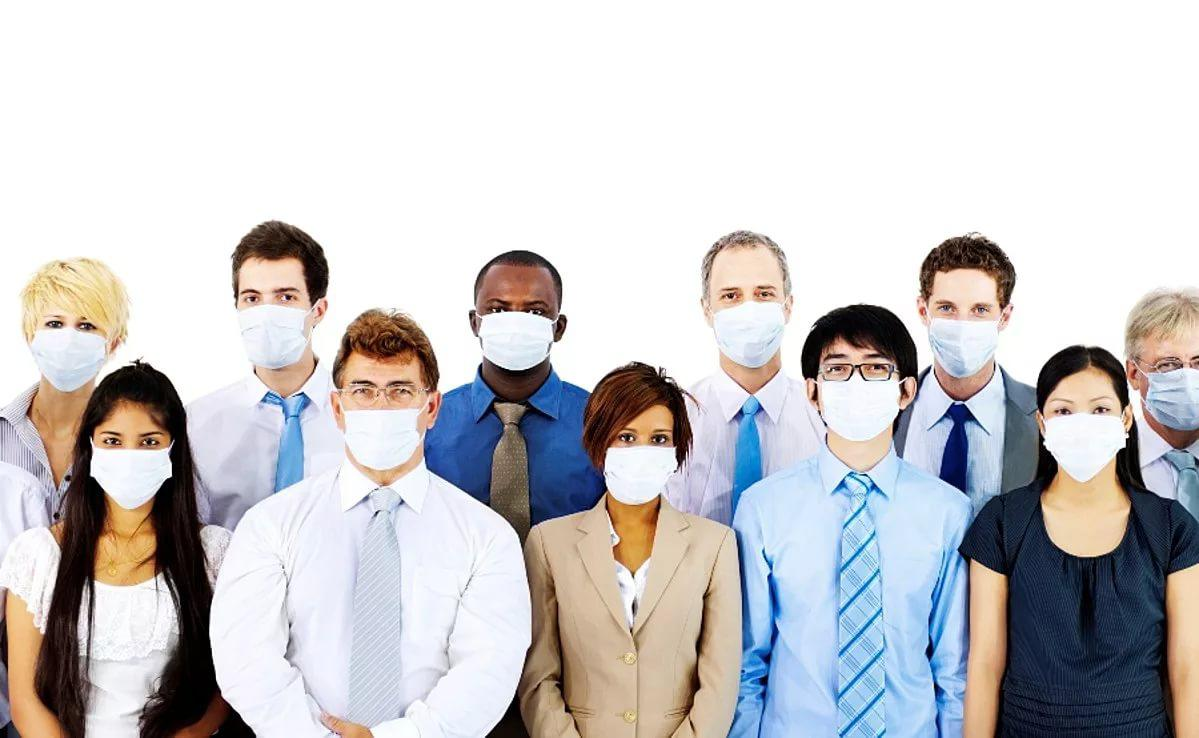mask: (336, 351, 429, 468), (707, 244, 790, 369), (916, 254, 1007, 364), (596, 395, 683, 508), (1129, 292, 1199, 430), (480, 261, 559, 374), (29, 289, 111, 392), (820, 331, 899, 436), (1047, 369, 1123, 472), (95, 404, 170, 501), (239, 250, 309, 346)
